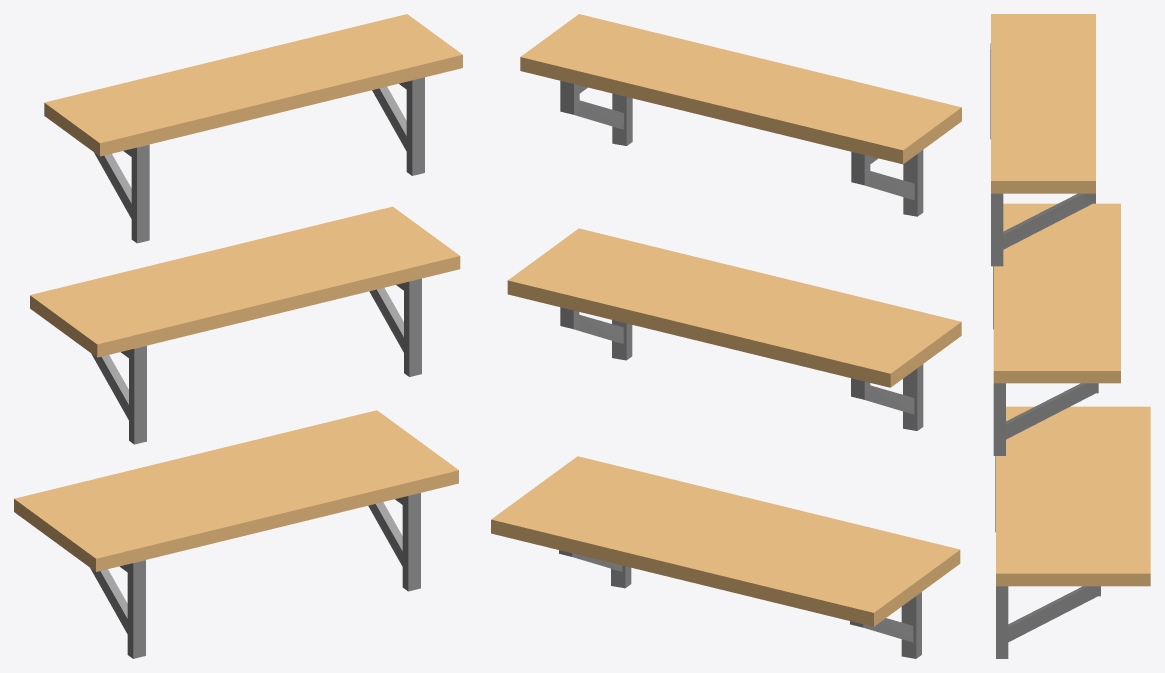
The model's file is wall_shelf.glb.
The picture shows the model from 3 angles, left to right: view 1: azimuth 30°, elevation 25°; view 2: azimuth 150°, elevation 25°; view 3: azimuth 270°, elevation 25°; orthographic projection. The views are drawn at different scales.
Visible parts, largest first — view 1: Node; view 2: Node; view 3: Node.
Part boxes in pixels (left/top/right/bottom): Node: left=14, top=14, right=462, bottom=658; Node: left=491, top=14, right=961, bottom=658; Node: left=990, top=14, right=1150, bottom=658.
Size of the model in its own units: 1.43 by 1.98 by 0.5799.
